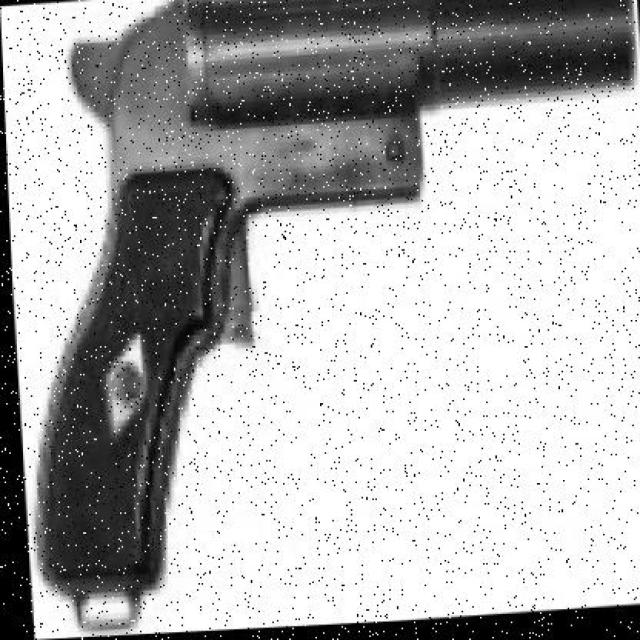weapon: (35, 0, 636, 632)
